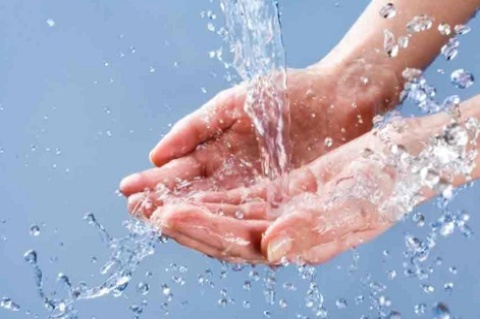washing hand: (69, 0, 402, 293)
